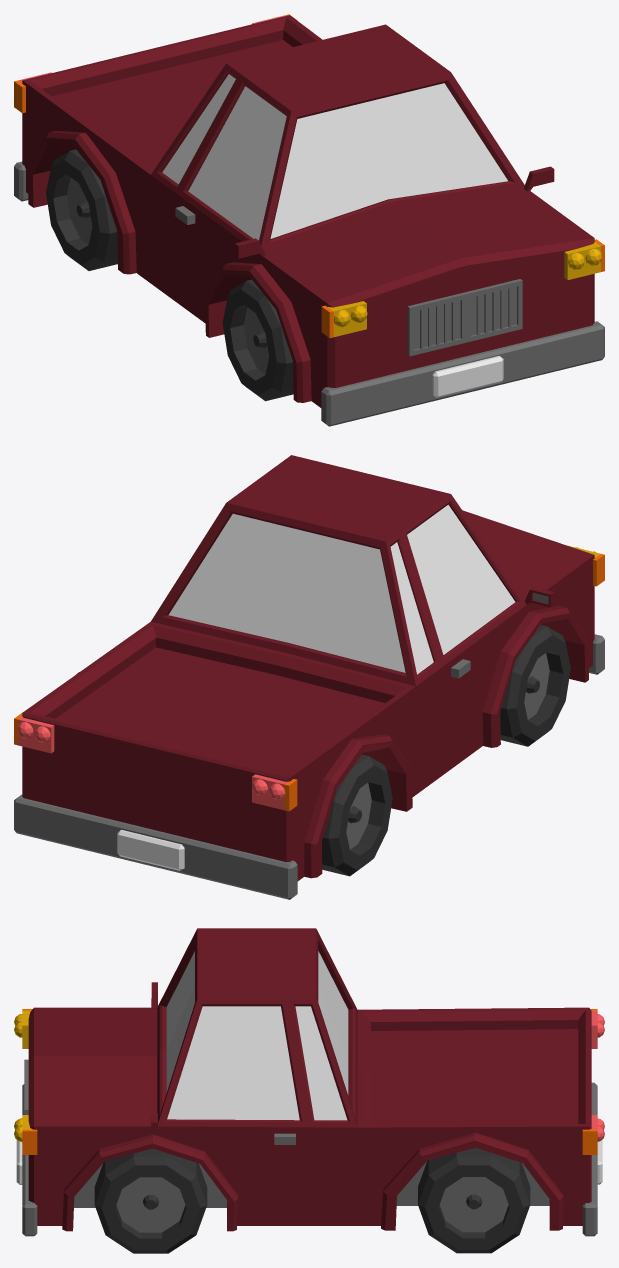
Rendered from Car D.fbx.
3 views of the same model, one above another, from view 1: azimuth 30°, elevation 25°; view 2: azimuth 150°, elevation 25°; view 3: azimuth 270°, elevation 25° (orthographic). The views are drawn at different scales.
Visible parts, largest first — view 1: Car D; view 2: Car D; view 3: Car D.
Boxes of the visible parts, x1,y1,x2,y2 form: Car D: [14, 14, 604, 426]; Car D: [14, 455, 604, 899]; Car D: [14, 928, 604, 1253].
Size of the model in its own units: 167 by 126 by 297.
